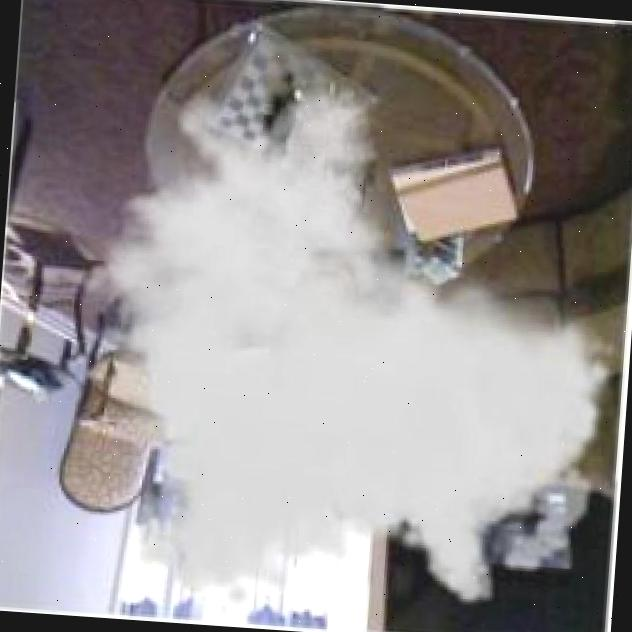smoke: (31, 66, 632, 632)
